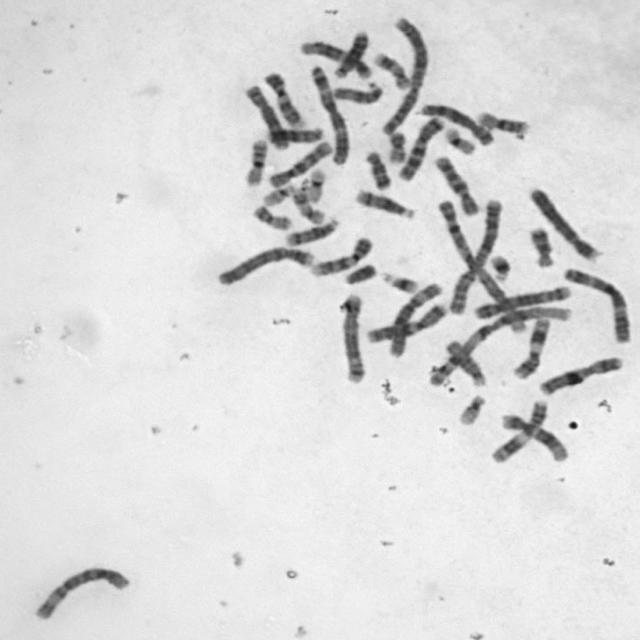A1: (433, 197, 530, 335), (422, 303, 574, 388)
A2: (446, 197, 505, 317), (378, 15, 431, 137)
A3: (561, 265, 631, 345), (306, 61, 351, 168)
B4: (526, 184, 601, 262), (213, 242, 318, 288)
B5: (471, 282, 573, 320), (336, 290, 367, 386)
C10: (265, 139, 334, 190), (431, 152, 482, 218)
C11: (486, 397, 550, 465), (509, 314, 552, 380)
C12: (497, 410, 570, 464), (297, 38, 374, 79)
C6: (28, 563, 132, 622), (385, 280, 444, 361)
C7: (362, 299, 450, 345), (394, 114, 445, 182)
C8: (414, 100, 496, 147), (241, 82, 289, 151)
C9: (306, 234, 375, 279), (262, 69, 306, 129)
D13: (331, 28, 370, 80), (264, 125, 326, 145)
D14: (351, 185, 417, 222), (280, 214, 342, 248)
D15: (442, 337, 488, 387), (330, 77, 385, 106)
E16: (240, 136, 270, 188), (474, 108, 530, 135)
E17: (370, 49, 411, 91), (290, 186, 328, 226)
E18: (362, 148, 392, 192), (526, 225, 556, 269)
F19: (442, 125, 478, 156), (301, 165, 328, 204)
F20: (249, 201, 294, 232), (385, 130, 409, 165)
G21: (379, 269, 421, 295), (486, 250, 513, 283)
G22: (455, 390, 487, 426), (258, 182, 298, 208)
X: (534, 354, 624, 396)
Y: (340, 260, 378, 286)
